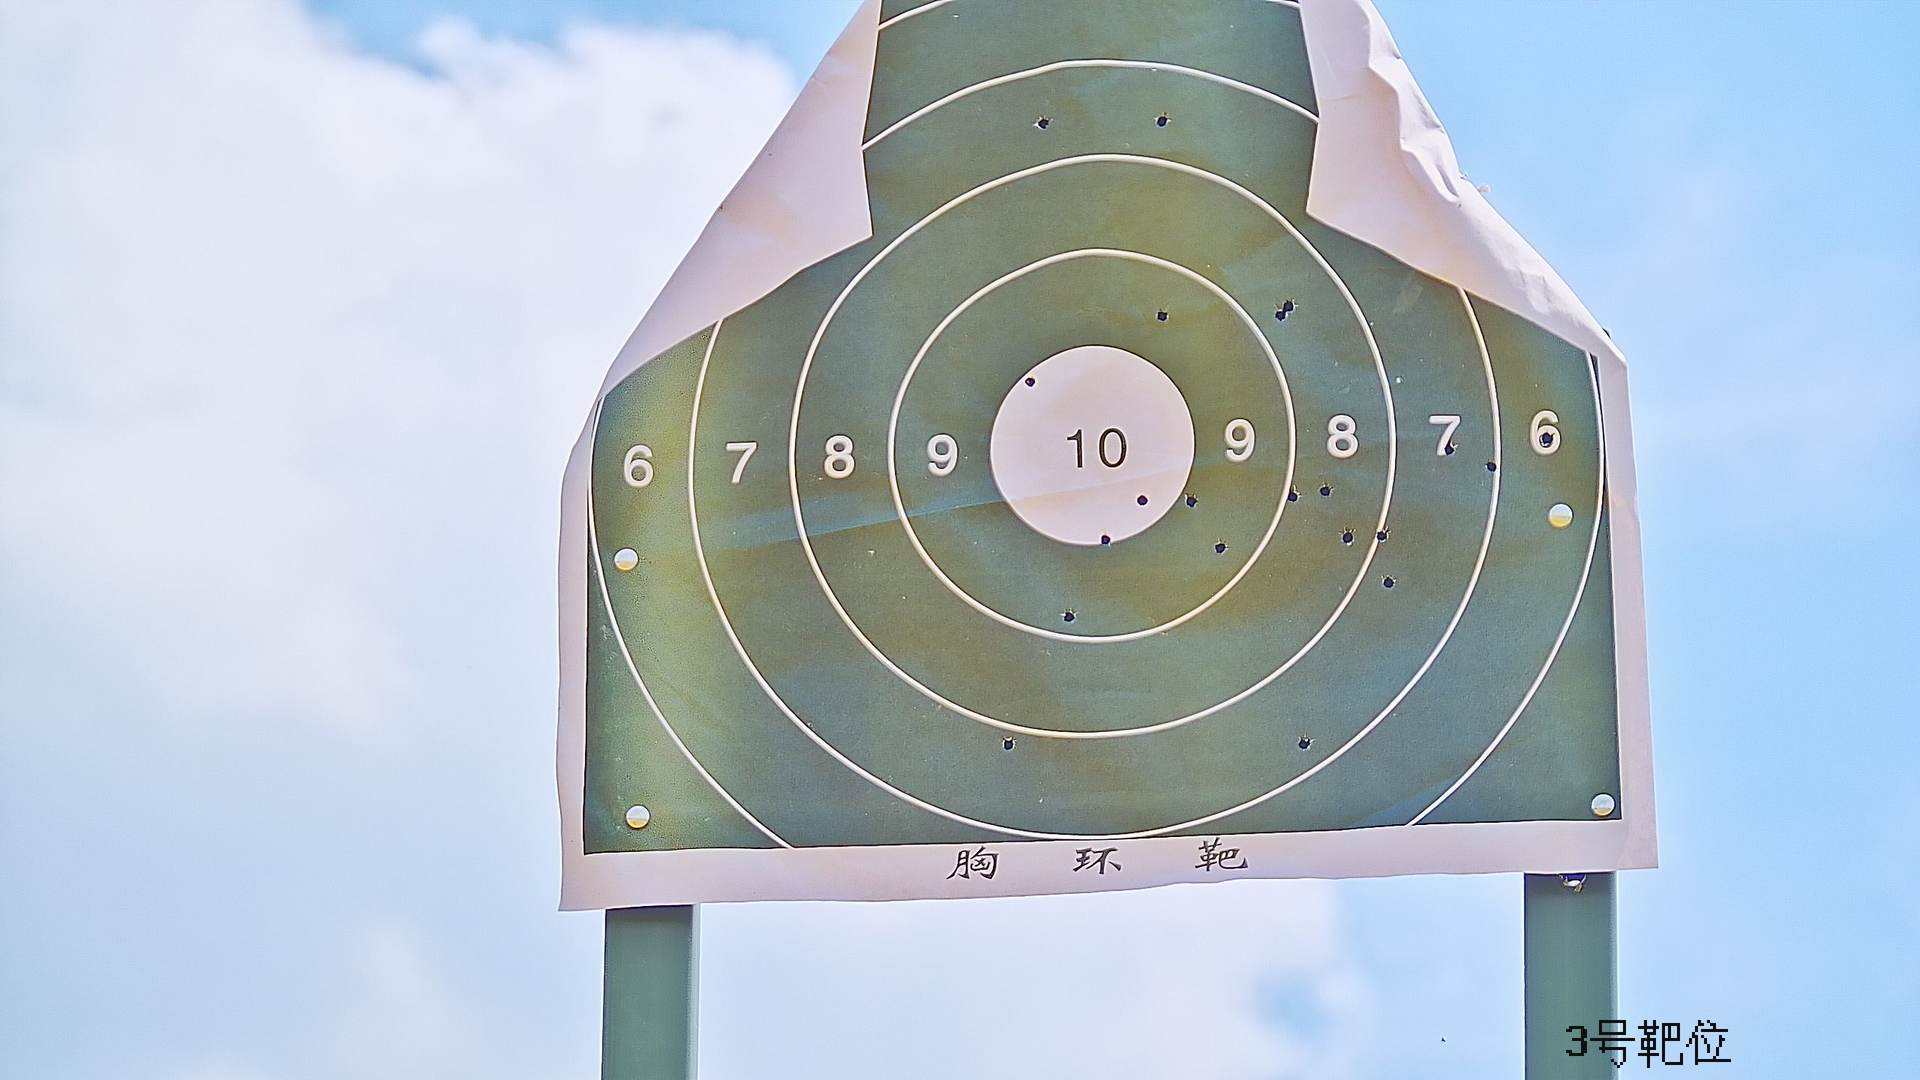hole: (1484, 459, 1499, 475), (1280, 295, 1295, 313), (1000, 735, 1014, 752), (1444, 439, 1458, 456), (1134, 492, 1149, 508), (1340, 529, 1354, 545), (1374, 527, 1389, 543), (1298, 735, 1311, 750), (1287, 488, 1300, 504), (1156, 309, 1170, 323), (1100, 531, 1113, 546), (1317, 483, 1332, 496), (1382, 576, 1396, 589), (1038, 115, 1050, 131), (1185, 493, 1197, 509), (1274, 307, 1284, 323), (1156, 113, 1167, 128), (1216, 539, 1226, 554), (1023, 375, 1035, 386), (1063, 611, 1075, 622), (1542, 433, 1553, 444)
kernel: (1084, 447, 1096, 455)
target: (580, 3, 1625, 843)
ten: (988, 340, 1193, 547)
